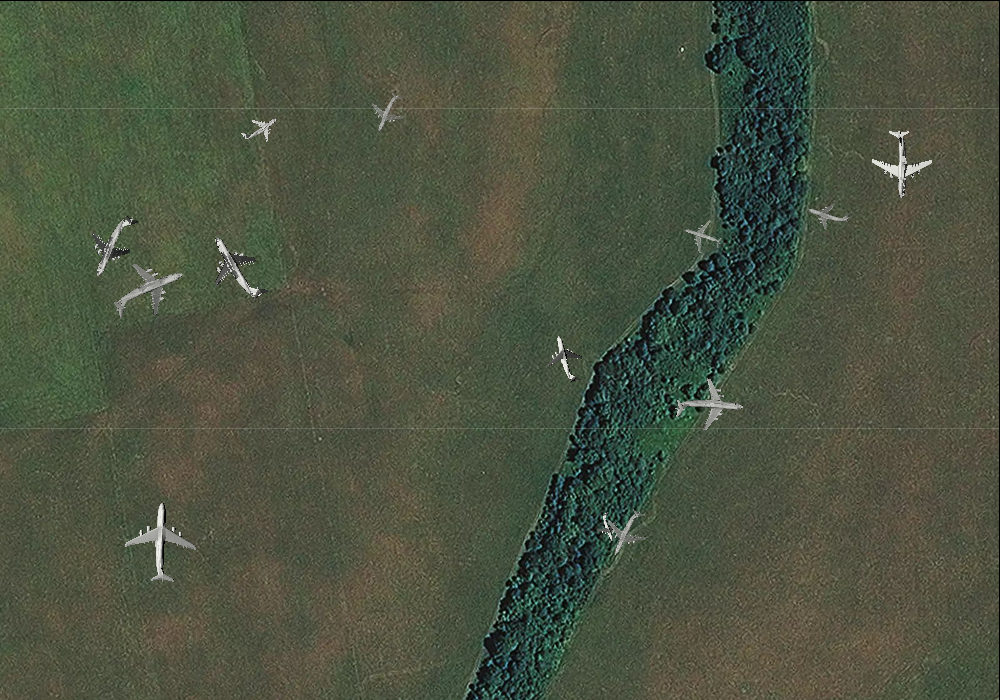plane: (191, 218, 284, 316), (100, 245, 196, 337), (121, 501, 202, 585), (74, 203, 154, 288), (673, 373, 746, 441), (867, 128, 934, 198), (595, 500, 659, 565), (540, 330, 593, 387), (361, 85, 414, 139), (234, 103, 285, 152), (803, 190, 855, 237), (679, 213, 727, 260), (591, 508, 625, 545)
